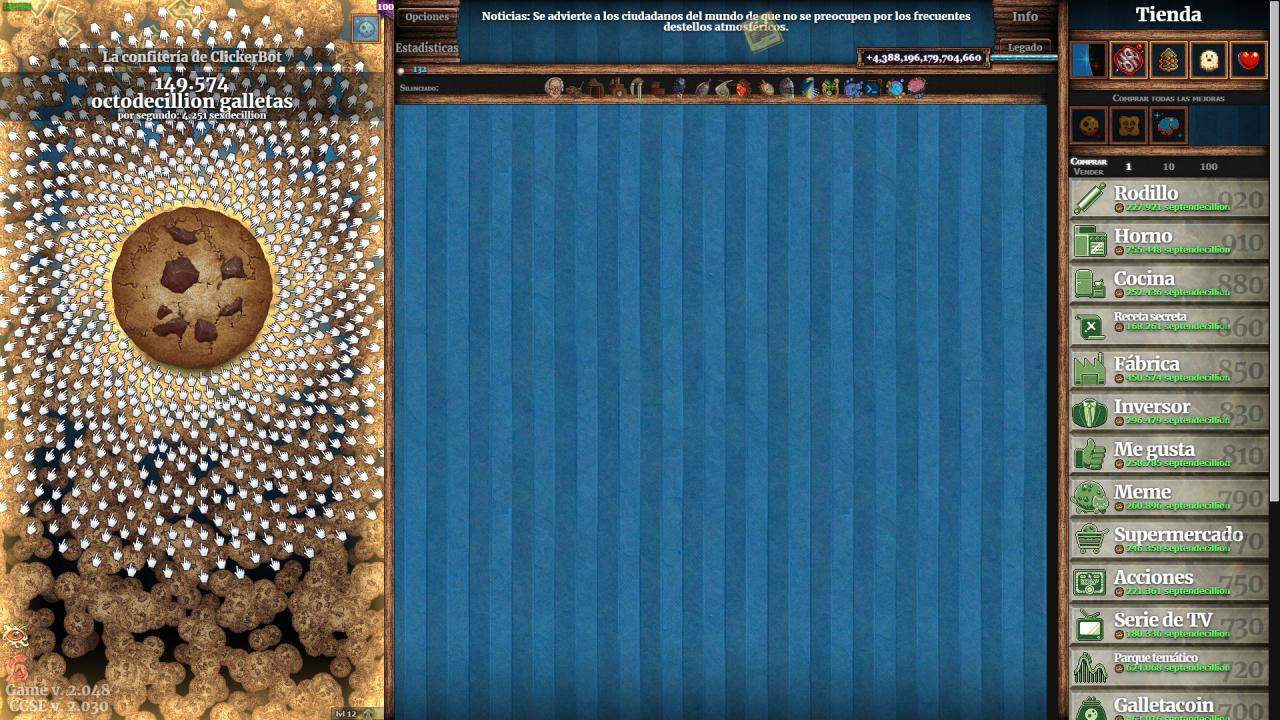GoldenCartridge: (739, 8, 786, 56)
